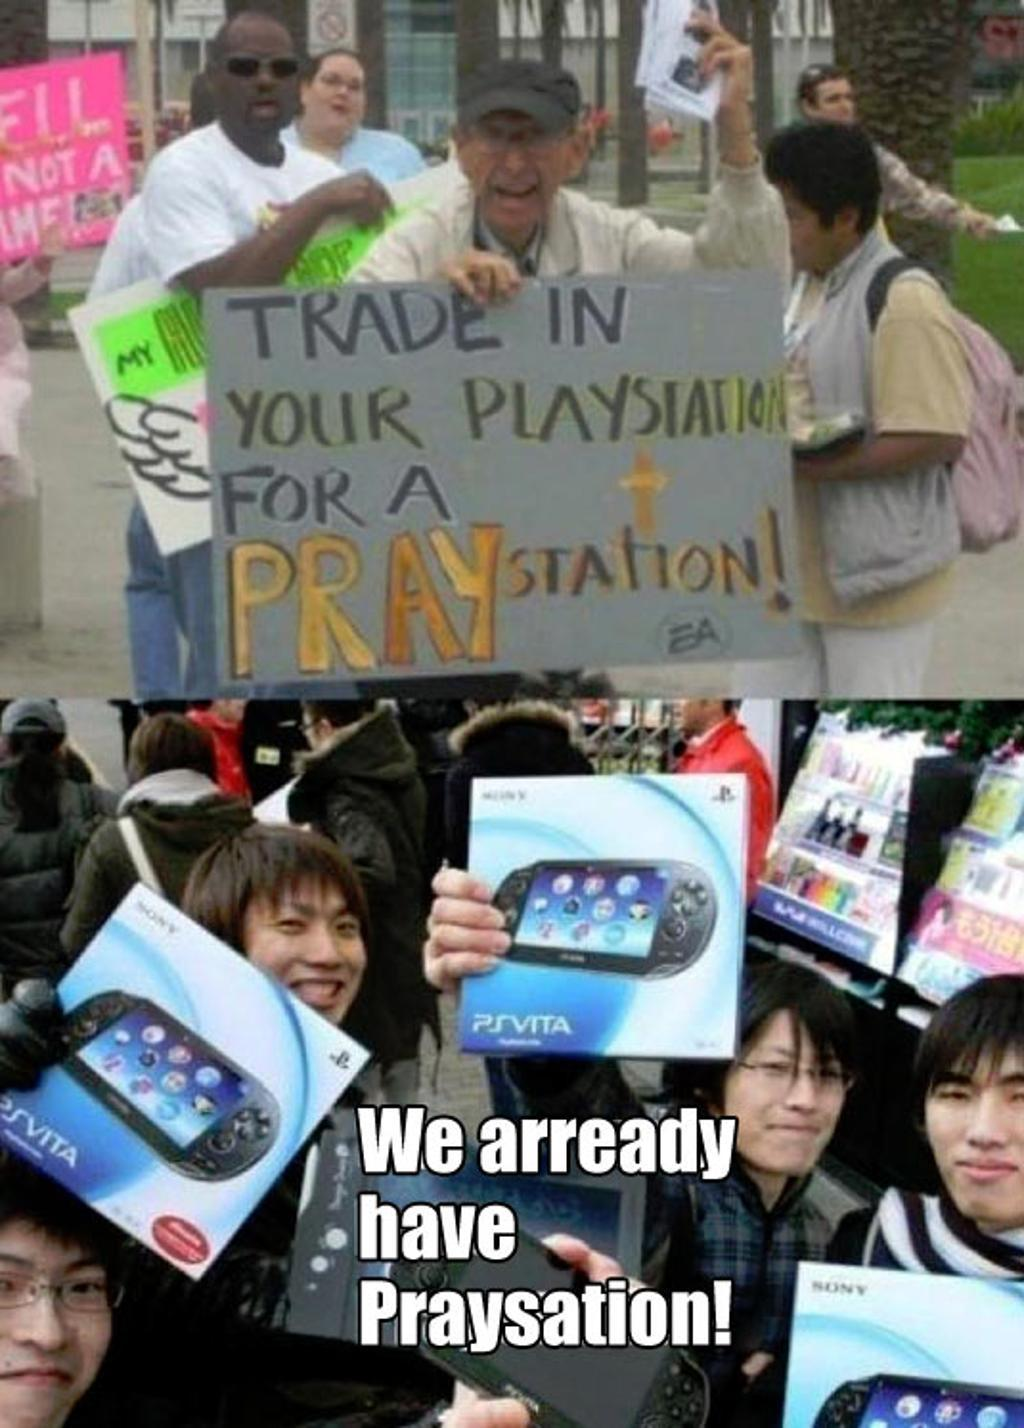face: (726, 1029, 845, 1179), (251, 885, 365, 1034), (33, 1225, 114, 1428), (926, 1064, 1024, 1220), (475, 117, 566, 229), (220, 34, 299, 131), (767, 171, 837, 271), (310, 60, 365, 135), (810, 82, 854, 129), (673, 699, 715, 731)
